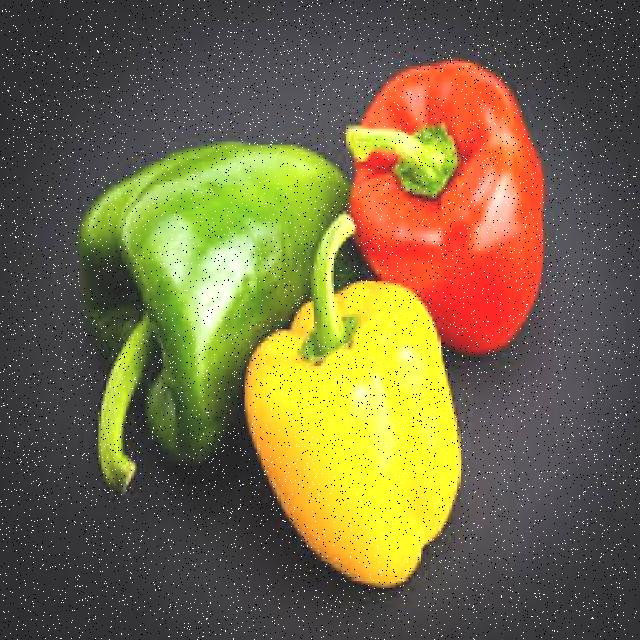Bell Pepper: (238, 229, 480, 606), (338, 43, 562, 369)
